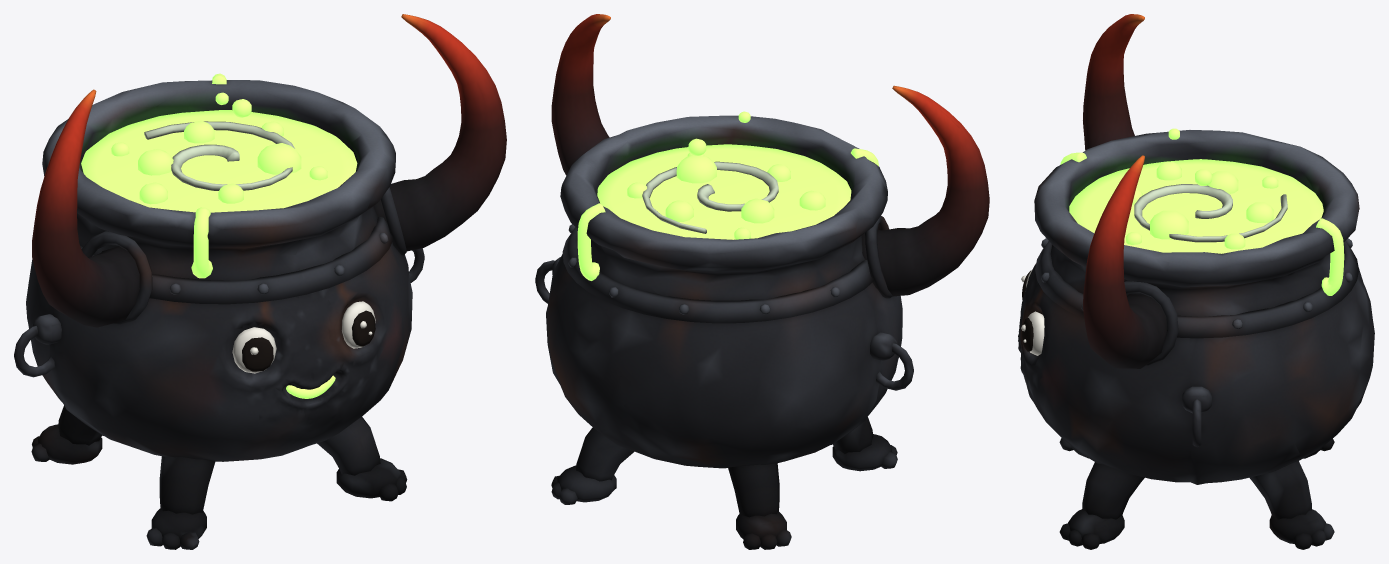
Rendered from cauldron.fbx.
The picture shows the model from 3 angles, left to right: view 1: azimuth 30°, elevation 25°; view 2: azimuth 150°, elevation 25°; view 3: azimuth 270°, elevation 25°; orthographic projection. The views are drawn at different scales.
Visible parts, largest first — view 1: Cauldron_Body, Cauldron_GLOW, Cauldron_Eyes; view 2: Cauldron_Body, Cauldron_GLOW; view 3: Cauldron_Body, Cauldron_GLOW, Cauldron_Eyes.
Part boxes in pixels (x1,y1,x2,y2): Cauldron_Body: (14, 14, 506, 549); Cauldron_GLOW: (81, 73, 357, 398); Cauldron_Eyes: (232, 301, 375, 373); Cauldron_Body: (535, 14, 989, 549); Cauldron_GLOW: (577, 111, 878, 280); Cauldron_Body: (1018, 14, 1374, 549); Cauldron_GLOW: (1060, 128, 1344, 295); Cauldron_Eyes: (1021, 269, 1044, 355).
Size of the model in its own units: 3.96 by 3.58 by 2.83.
Materials: 3 (1 with a texture image).
